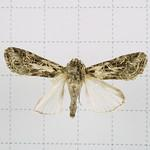Spodoptera litura: (4, 47, 148, 119)
